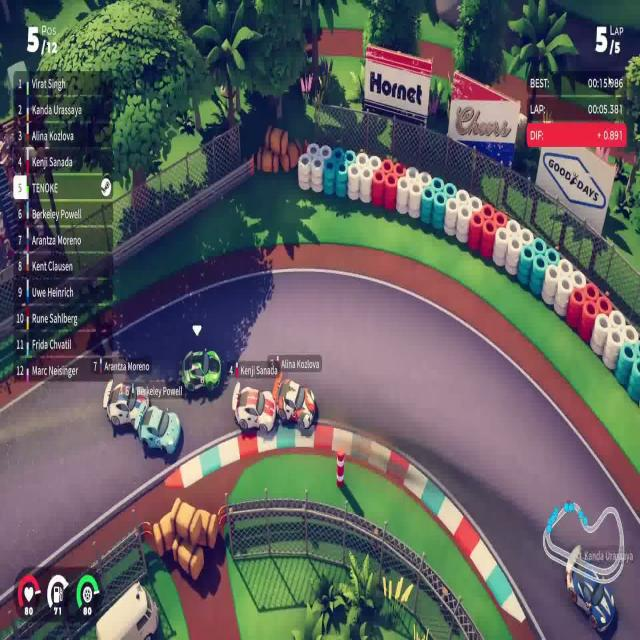car: (104, 376, 149, 432), (138, 404, 182, 456), (233, 384, 276, 434), (276, 378, 317, 430), (180, 346, 222, 396)
